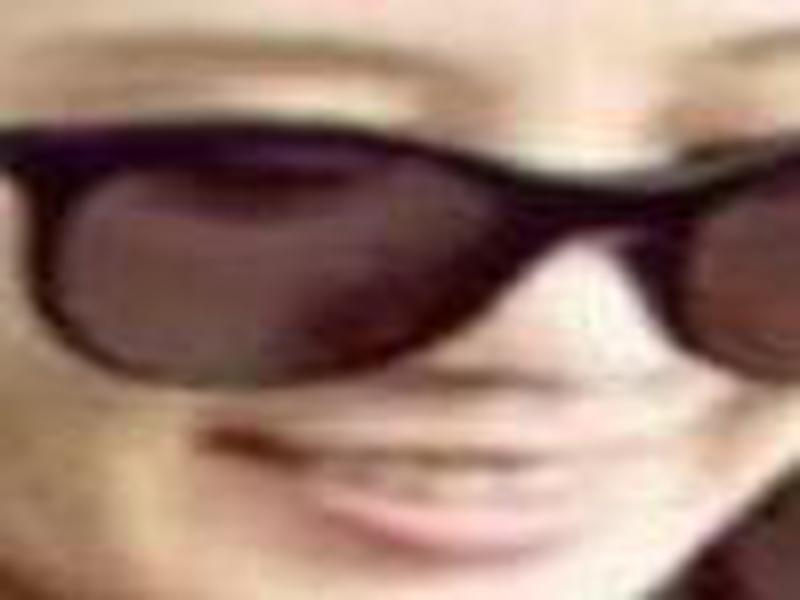without_mask: (17, 27, 783, 584)
